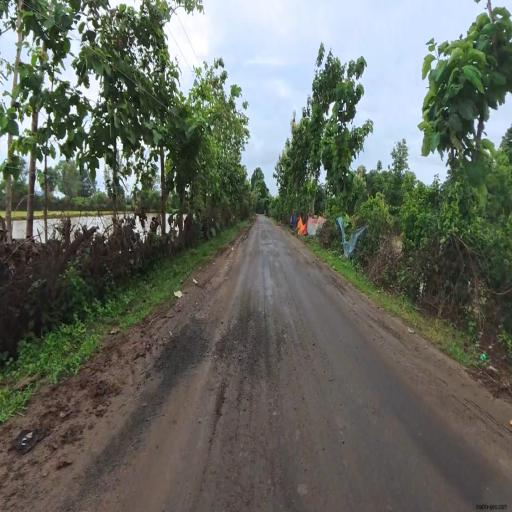ravelling: (160, 296, 301, 480)
